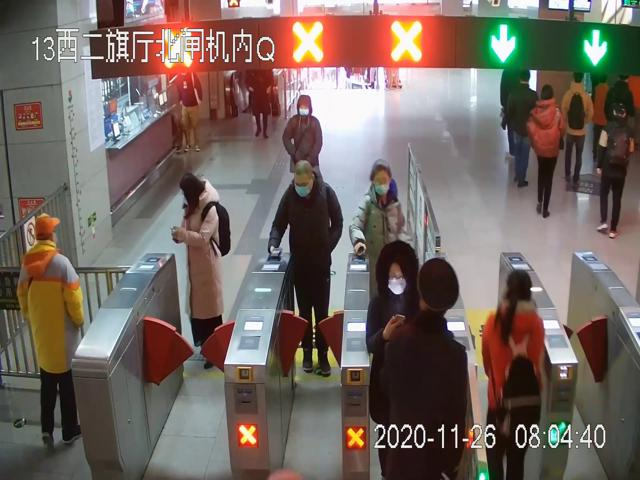person: (17, 213, 91, 447), (269, 157, 345, 377), (172, 174, 231, 372), (349, 158, 412, 301), (528, 87, 566, 218), (597, 104, 634, 237), (281, 96, 326, 180)
